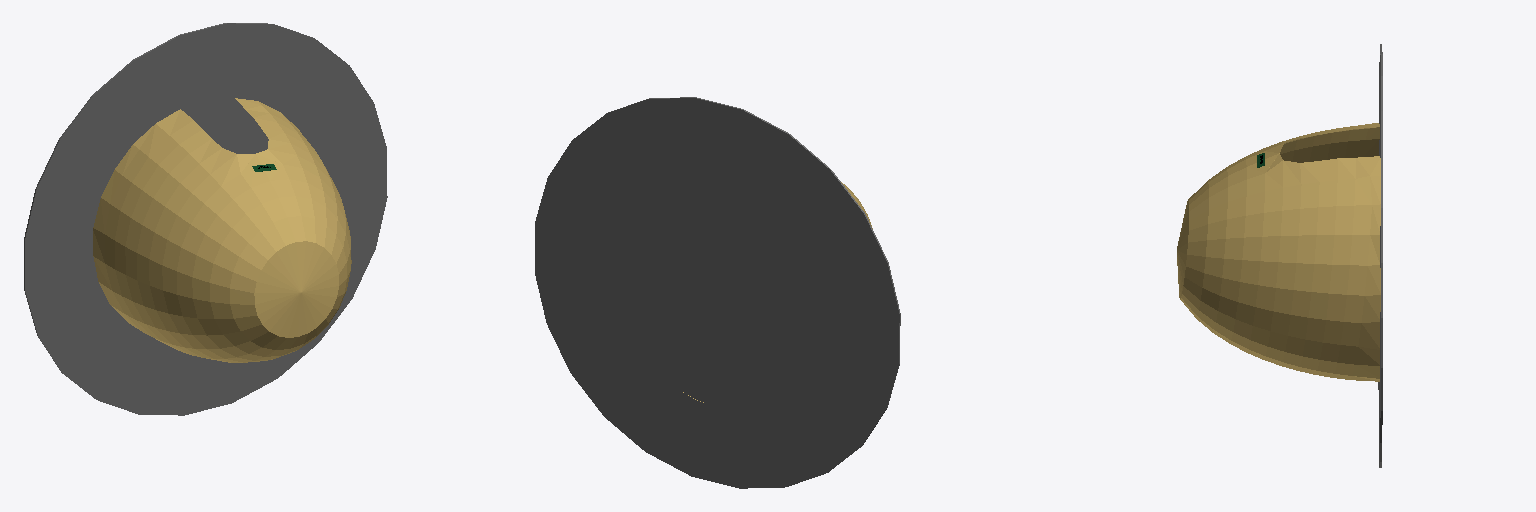
Rendered from dome.obj.
The picture shows the model from 3 angles: view 1: azimuth 30°, elevation 25°; view 2: azimuth 150°, elevation 25°; view 3: azimuth 270°, elevation 25°; orthographic projection.
Visible parts, largest first — view 1: p.0027, s.0066; view 2: p.0027; view 3: s.0066, p.0027.
Part boxes in pixels (x1,y1,x2,y2): p.0027: (24, 23, 387, 415); s.0066: (93, 98, 351, 362); p.0027: (535, 97, 900, 488); s.0066: (1177, 123, 1380, 381); p.0027: (1378, 44, 1382, 467).
Size of the model in its own units: 138 by 138 by 67.75.